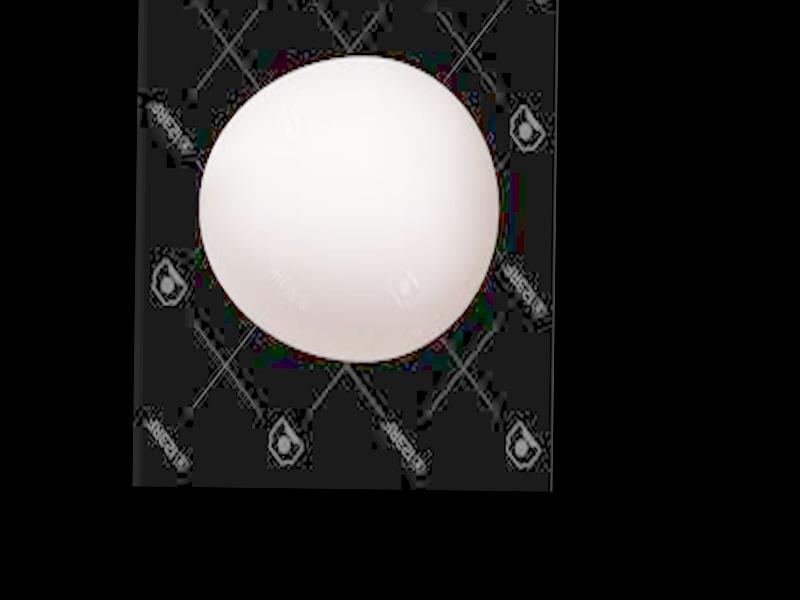Eggs: (199, 56, 498, 358)
